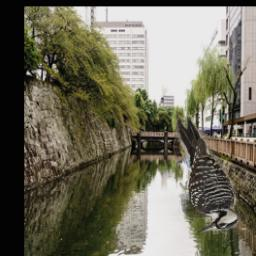Woodpecker: (176, 115, 240, 233)
